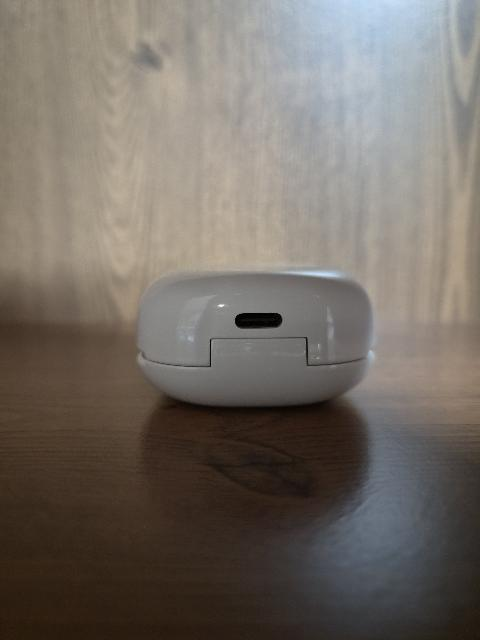earphone_case: (135, 269, 376, 407)
